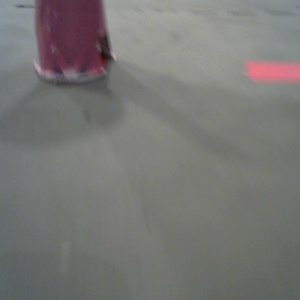middle: (31, 1, 117, 85)
